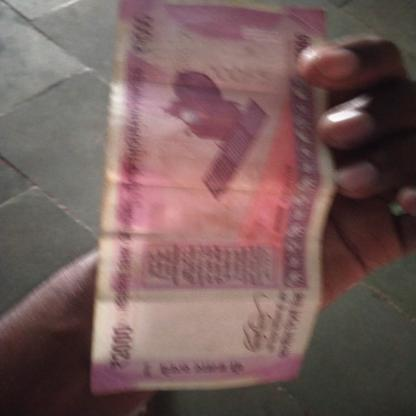New2000Back: (117, 0, 319, 388)
